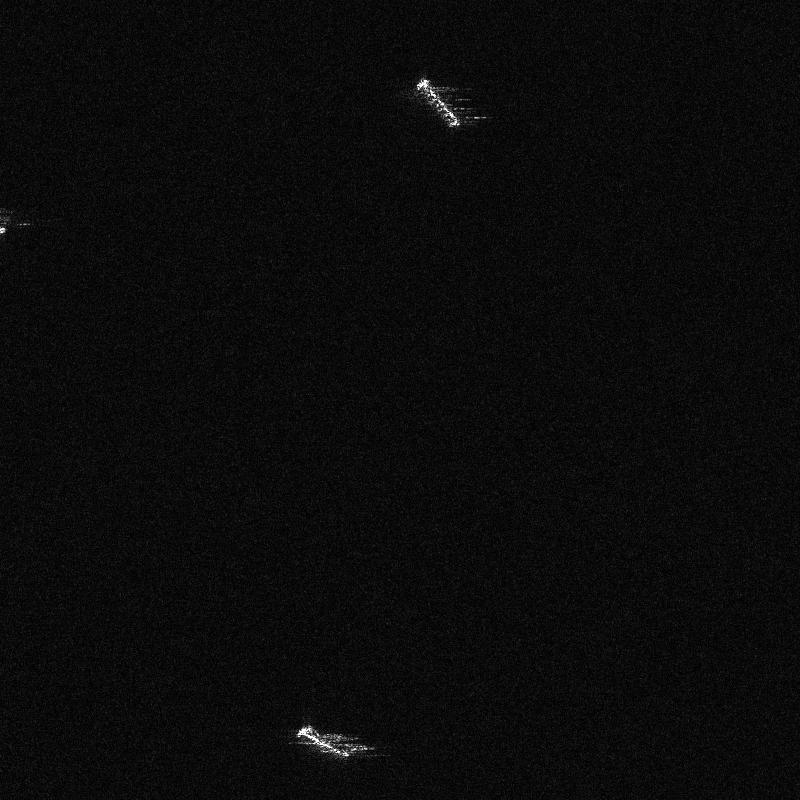ship: (417, 78, 459, 126), (296, 725, 349, 757)
